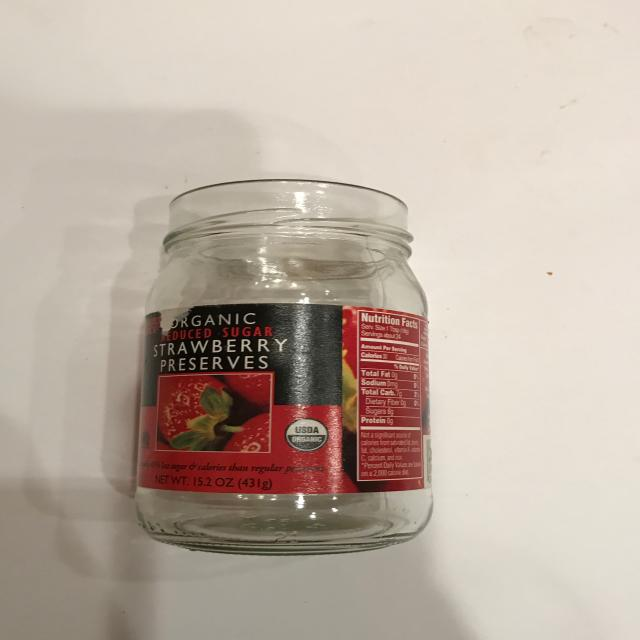Glass: (117, 149, 460, 573)
